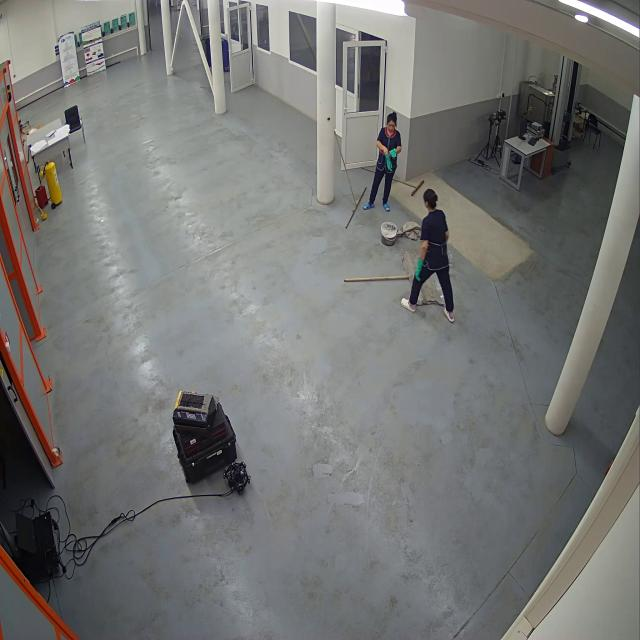NO-Hardhat: (422, 186, 439, 203), (387, 112, 398, 122)
Person: (398, 186, 458, 324), (362, 112, 402, 215)
